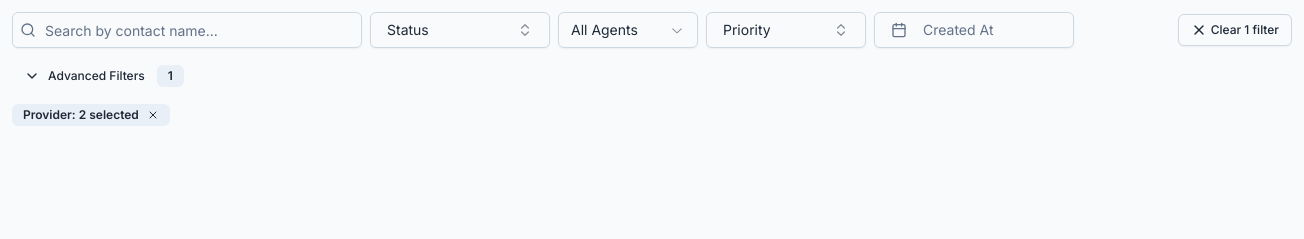
it: ChatViewFilters › Multi-Select Filters (Feature 015: Chunk 4) › should display provider multi-select in advanced filters
Expand advanced filters
Click the button "Advanced Filters 1" at [104, 76], box [12, 60, 196, 92]
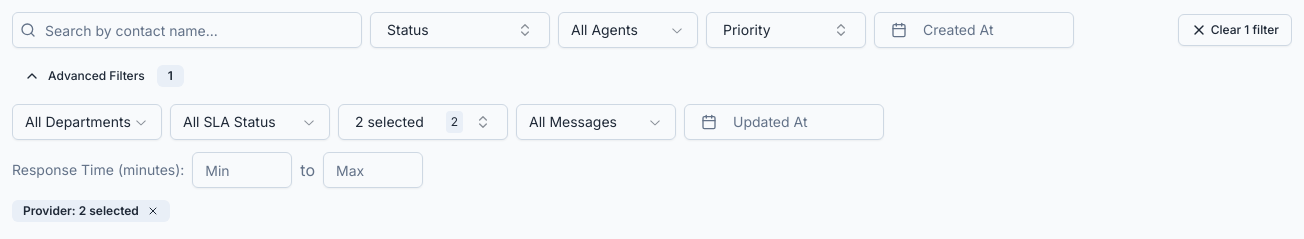
Expected: the text "2 selected" is shown, [355, 112, 424, 132]
